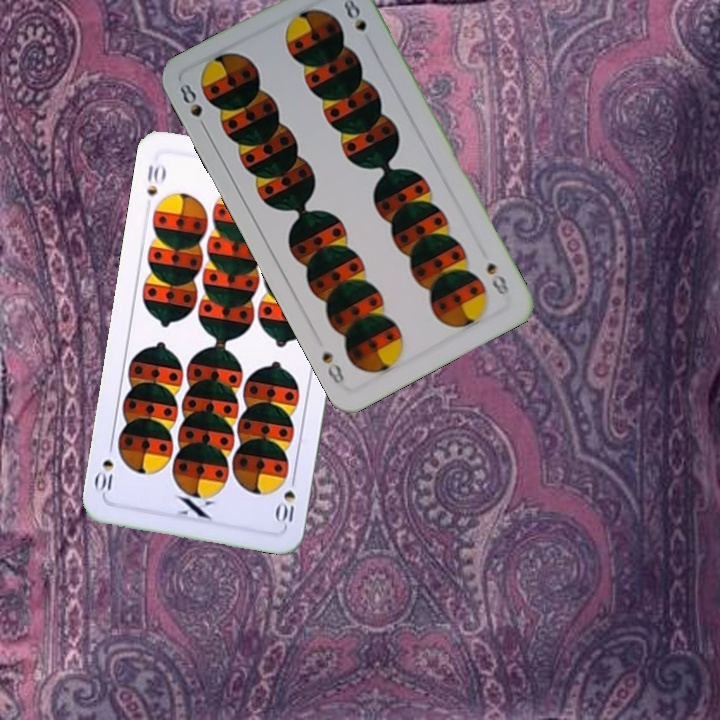S10: (273, 470, 299, 529), (142, 160, 168, 198)
S8: (173, 79, 211, 135), (482, 258, 512, 298)
